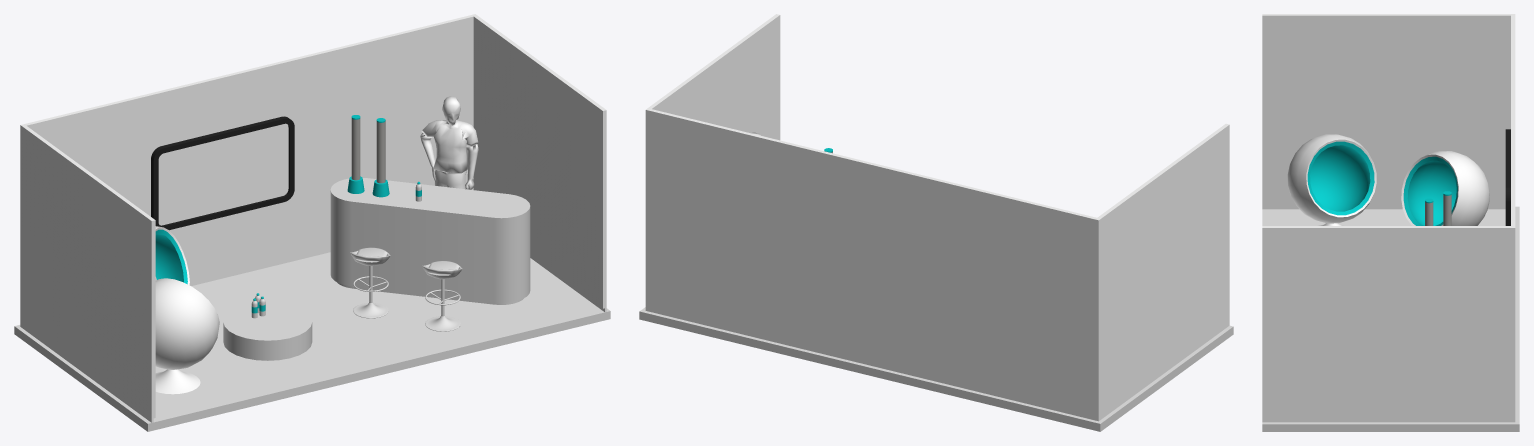
File: Stall1.fbx
The picture shows the model from 3 angles, left to right: view 1: azimuth 30°, elevation 25°; view 2: azimuth 150°, elevation 25°; view 3: azimuth 270°, elevation 25°; orthographic projection. The views are drawn at different scales.
Parts seen in each view (by area): view 1: Group_002, Group_001, Group_008, Group_007, EeroAArnio Globe Ball_002, Group_003, 3D_Man_Standing#1_001, EeroAArnio Globe Ball_001, Group#5_002, Group#5_001, Group_012, Group_016 (+2 smaller); view 2: Group_002, Group_001; view 3: Group_002, EeroAArnio Globe Ball_002, Group_001, EeroAArnio Globe Ball_001, Group_007, Group#5_001.
Boxes of the visible parts, box(x1,y1,x2,y2) form: Group_002: box(20, 14, 606, 422); Group_001: box(14, 252, 610, 431); Group_008: box(330, 178, 530, 304); Group_007: box(151, 116, 294, 230); EeroAArnio Globe Ball_002: box(155, 278, 219, 394); Group_003: box(223, 303, 312, 360); 3D_Man_Standing#1_001: box(420, 96, 478, 189); EeroAArnio Globe Ball_001: box(155, 226, 189, 285); Group#5_002: box(372, 118, 389, 197); Group#5_001: box(347, 115, 364, 193); Group_012: box(353, 266, 388, 318); Group_016: box(425, 279, 460, 331); Group_002: box(645, 14, 1229, 421); Group_001: box(639, 307, 1233, 431); Group_002: box(1262, 14, 1515, 422); EeroAArnio Globe Ball_002: box(1287, 134, 1376, 225); Group_001: box(1262, 206, 1519, 431); EeroAArnio Globe Ball_001: box(1401, 151, 1489, 225); Group_007: box(1505, 129, 1510, 225); Group#5_001: box(1443, 191, 1451, 225).
Bounding box in the file's own units: 236 × 102 × 118.
